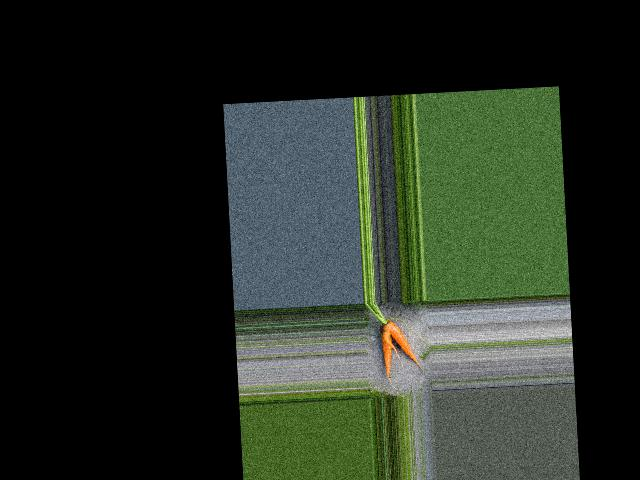carrot: (374, 327, 401, 389)
